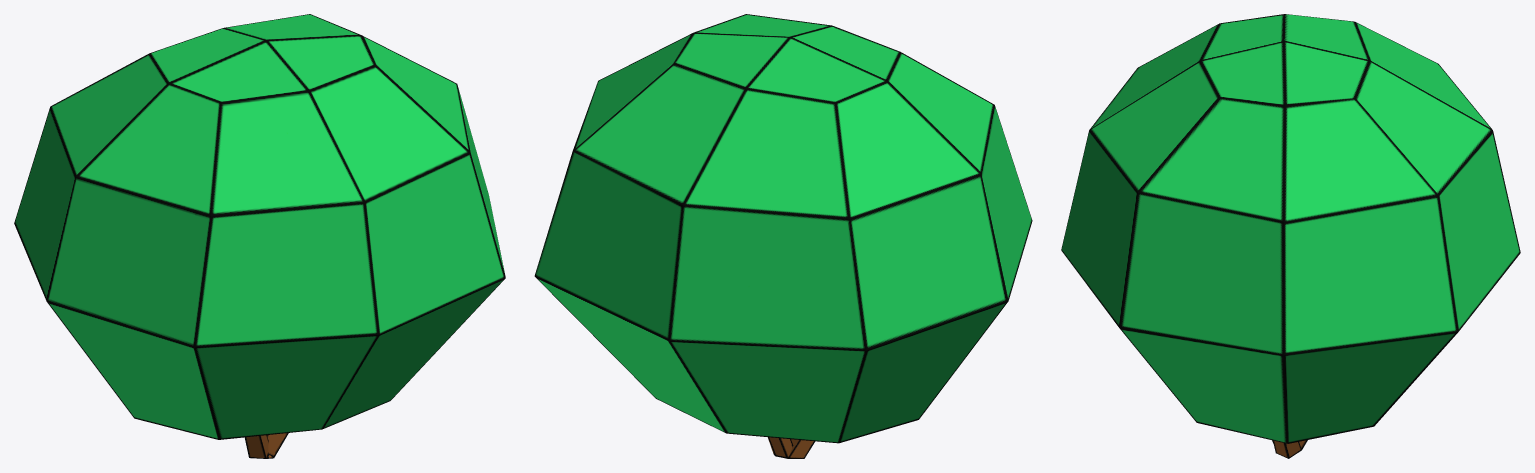
The model's file is Bush2.fbx.
The picture shows the model from 3 angles, left to right: view 1: azimuth 30°, elevation 25°; view 2: azimuth 150°, elevation 25°; view 3: azimuth 270°, elevation 25°; orthographic projection.
Parts seen in each view (by area): view 1: Bush1; view 2: Bush1; view 3: Bush1.
Boxes of the visible parts, x1,y1,x2,y2 form: Bush1: [14, 14, 505, 458]; Bush1: [534, 14, 1032, 458]; Bush1: [1061, 14, 1520, 458].
Size of the model in its own units: 281 by 254 by 257.
